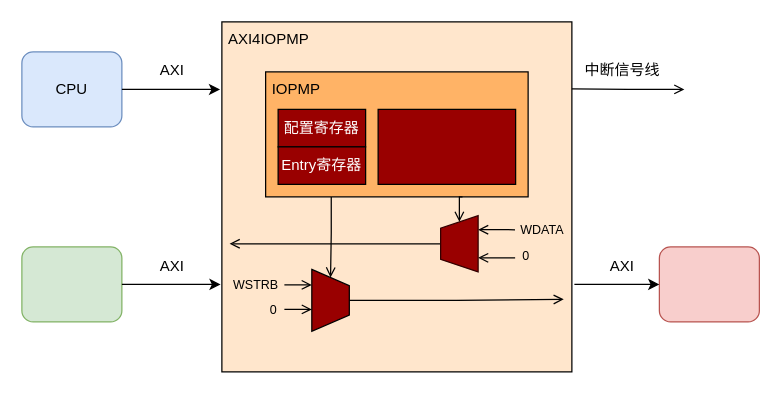
The diagram is 781 pixels wide and 394 high, and some of its shapes have lost their labels. The shapes that lost their labels are listed below. From the top down, each one's centre as x and y in pixels, then its label:
point (446, 146): IOPMPChecker
point (71, 284): DMA
point (708, 284): Memory
